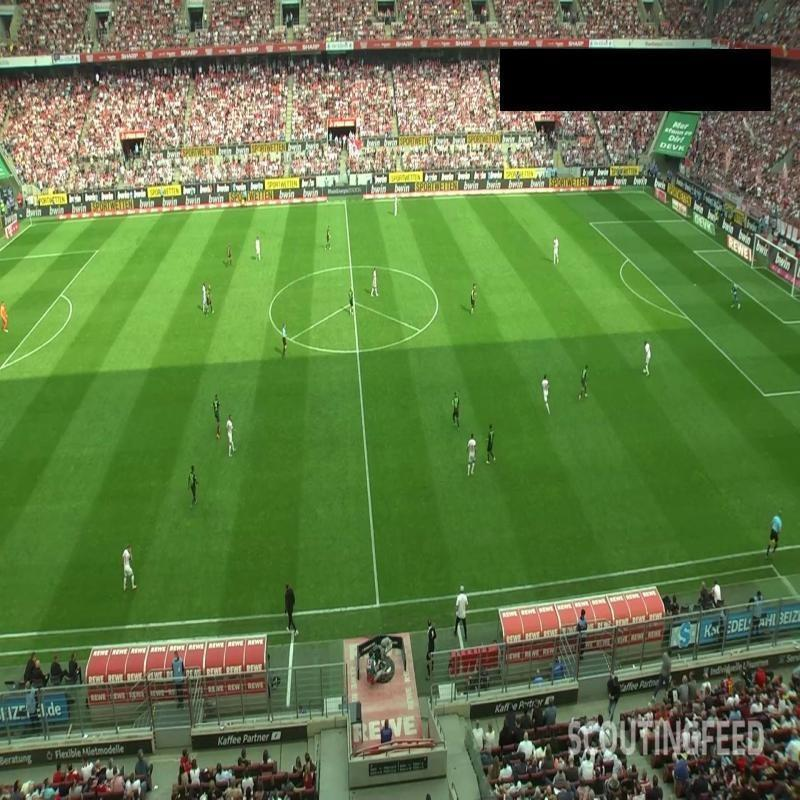1: (636, 184, 650, 198), (26, 222, 38, 228)
10: (622, 254, 636, 268), (54, 288, 68, 302)
11: (677, 308, 697, 328), (0, 358, 5, 376)
12: (758, 385, 772, 404)
13: (338, 195, 352, 209)
14: (344, 260, 358, 274)
15: (351, 344, 365, 358)
16: (370, 594, 388, 616)
2: (678, 213, 692, 227)
3: (720, 244, 735, 258)
7: (688, 245, 702, 259)
8: (777, 316, 791, 330)
9: (584, 216, 598, 230), (92, 246, 103, 257)
c: (430, 296, 444, 310), (263, 305, 277, 318)
